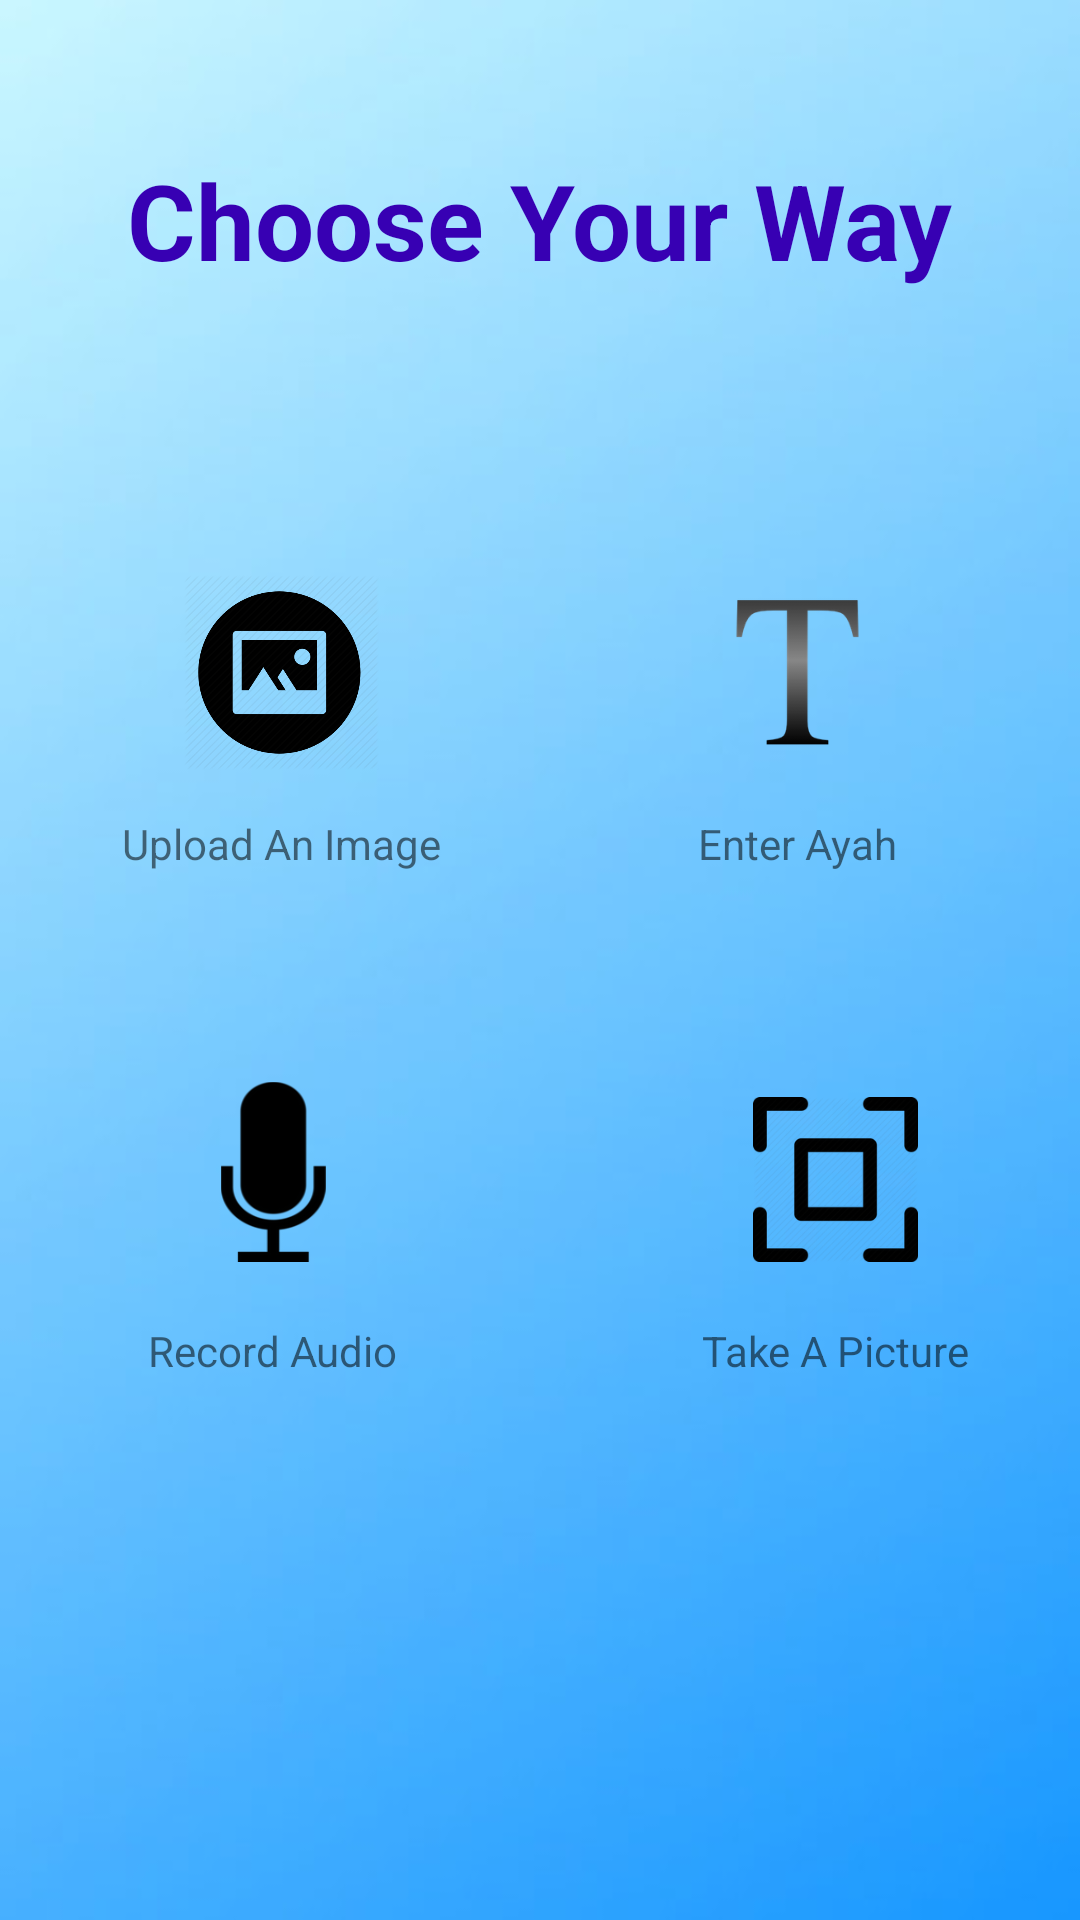

Point at icon controls on the screen. Image size 1080px×1920px, points as [x,y].
gallery: [279,672]
scan: [835,1179]
text: [797,672]
